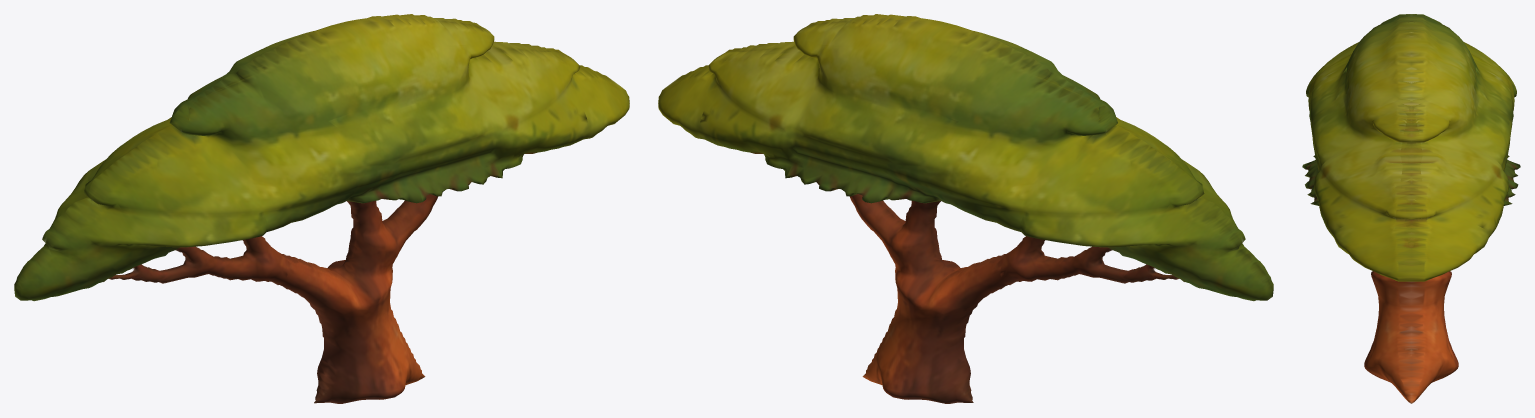
The model's file is 02_acacia_trees_r01_c03.glb.
3 renders of one model, left to right at view 1: azimuth 30°, elevation 25°; view 2: azimuth 150°, elevation 25°; view 3: azimuth 270°, elevation 25°, orthographic. The views are drawn at different scales.
Visible parts, largest first — view 1: 02_acacia_trees_r01_c03; view 2: 02_acacia_trees_r01_c03; view 3: 02_acacia_trees_r01_c03.
Boxes of the visible parts, x1,y1,x2,y2 form: 02_acacia_trees_r01_c03: (14,14,629,403); 02_acacia_trees_r01_c03: (658,14,1273,403); 02_acacia_trees_r01_c03: (1302,14,1520,403).
Bounding box in the file's own units: 4.17 × 2.42 × 1.47.
1 material, 1 textured.
